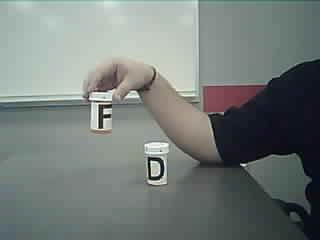Bottle D: (141, 139, 174, 193)
Bottle F: (86, 89, 116, 138)
